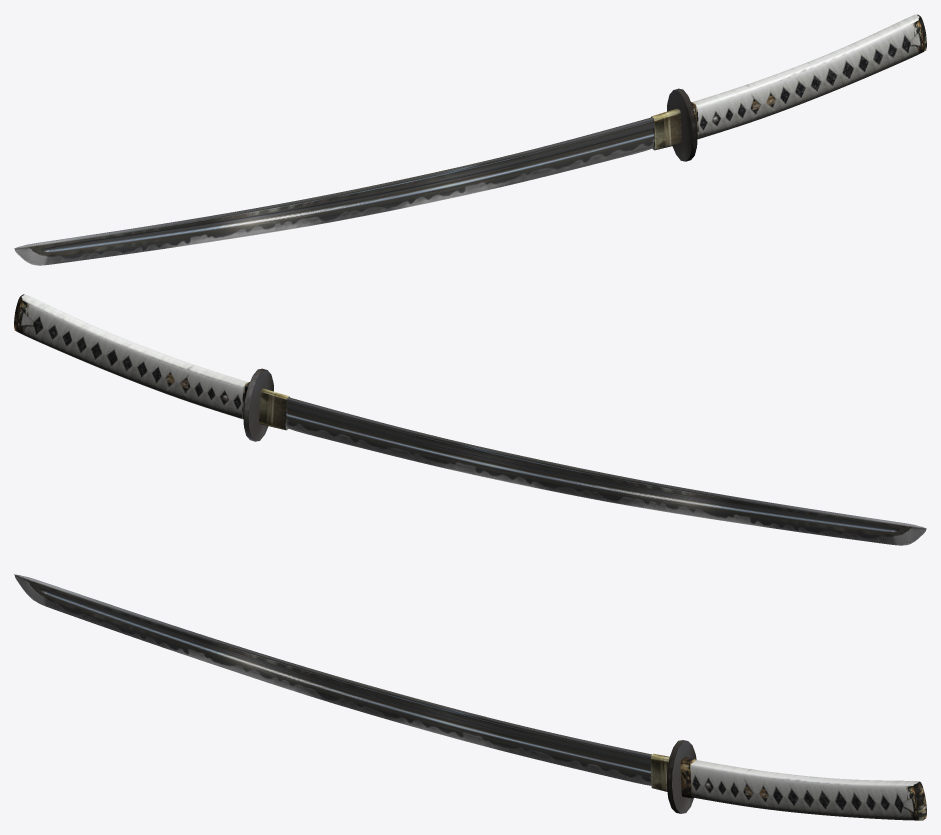
File: ghost_of_tsushima_the_storm_of_clan_sakai.glb
3 renders of one model, top to bottom at view 1: azimuth 30°, elevation 25°; view 2: azimuth 150°, elevation 25°; view 3: azimuth 330°, elevation 25°, orthographic.
Parts seen in each view (by area): view 1: pCube4; view 2: pCube4; view 3: pCube4.
Boxes of the visible parts, x1,y1,x2,y2 form: pCube4: [14, 14, 926, 265]; pCube4: [14, 294, 926, 545]; pCube4: [14, 574, 926, 820].
Bounding box in the file's own units: 115 × 10.54 × 5.59.
2 materials, 2 textured.
